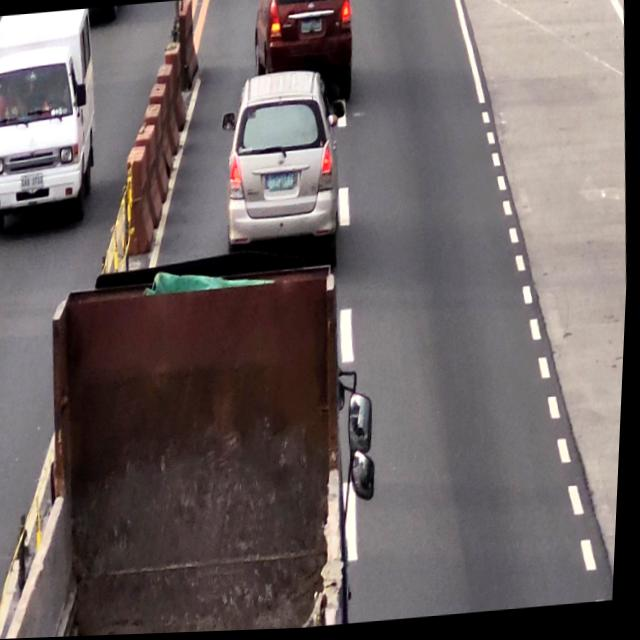Car: (223, 75, 345, 249), (250, 0, 353, 88)
License-Plate: (267, 174, 298, 197), (300, 19, 327, 39)
Truck: (33, 260, 363, 638)
